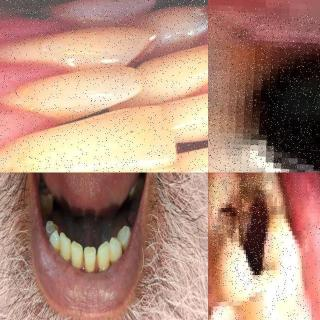Gum Swelling: (0, 6, 60, 88), (0, 87, 56, 173)
cavities: (224, 20, 320, 172), (208, 174, 290, 280)
stains: (52, 238, 64, 256), (105, 250, 116, 269)
